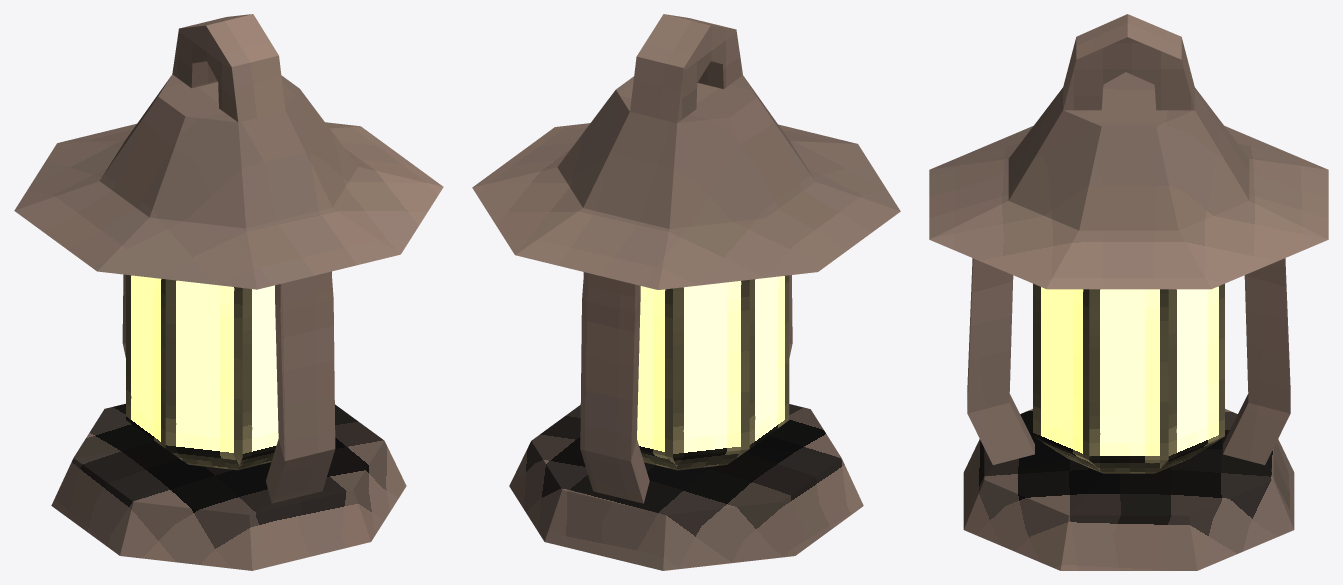
File: IceLantern.gltf
The picture shows the model from 3 angles, left to right: view 1: azimuth 30°, elevation 25°; view 2: azimuth 150°, elevation 25°; view 3: azimuth 270°, elevation 25°; orthographic projection.
Visible parts, largest first — view 1: IceLantern; view 2: IceLantern; view 3: IceLantern.
Boxes of the visible parts, <box> form: IceLantern: <box>14,14,443,570</box>; IceLantern: <box>472,14,900,570</box>; IceLantern: <box>929,14,1328,570</box>.
Size of the model in its own units: 2.23 by 2.94 by 2.23.
1 material, 1 textured.
